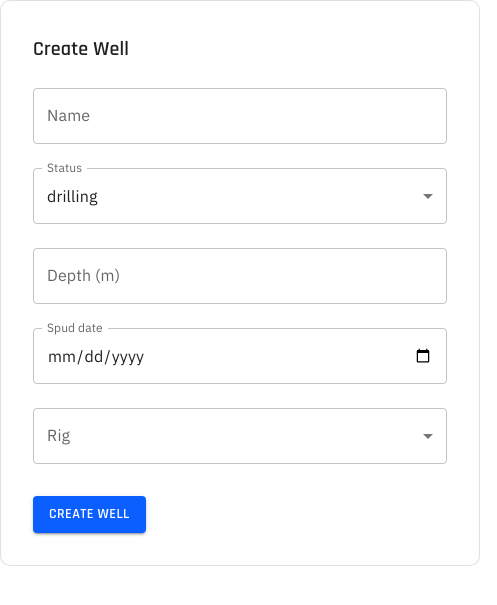
Scenario: WellForm › rejects a negative depth
In the field labelled "Name": (240, 116) [33,88,447,144], type "Well-1"
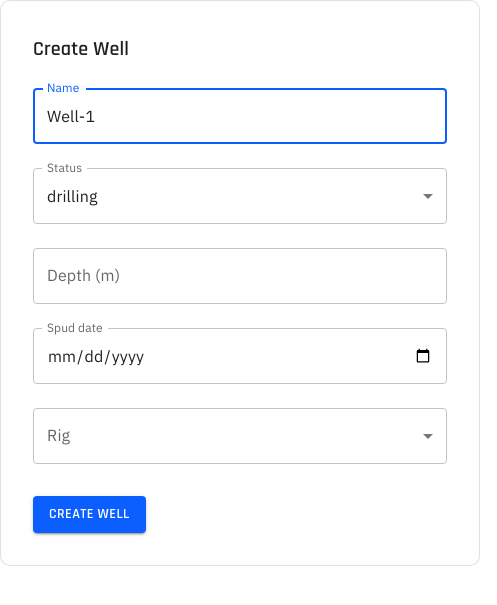
In the number field labelled "Depth (m)": (240, 276) [33,248,447,304], type "-5"
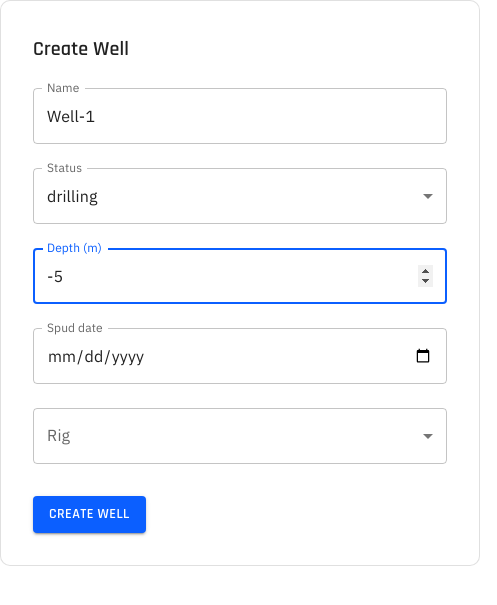
Click the button "Create Well": (89, 514) [33,496,146,532]
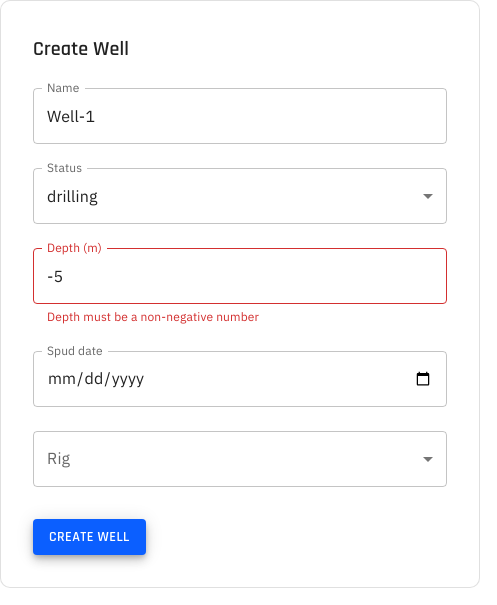
Expected: the text "Depth must be a non-negative number" is shown, [47,309,259,324]
